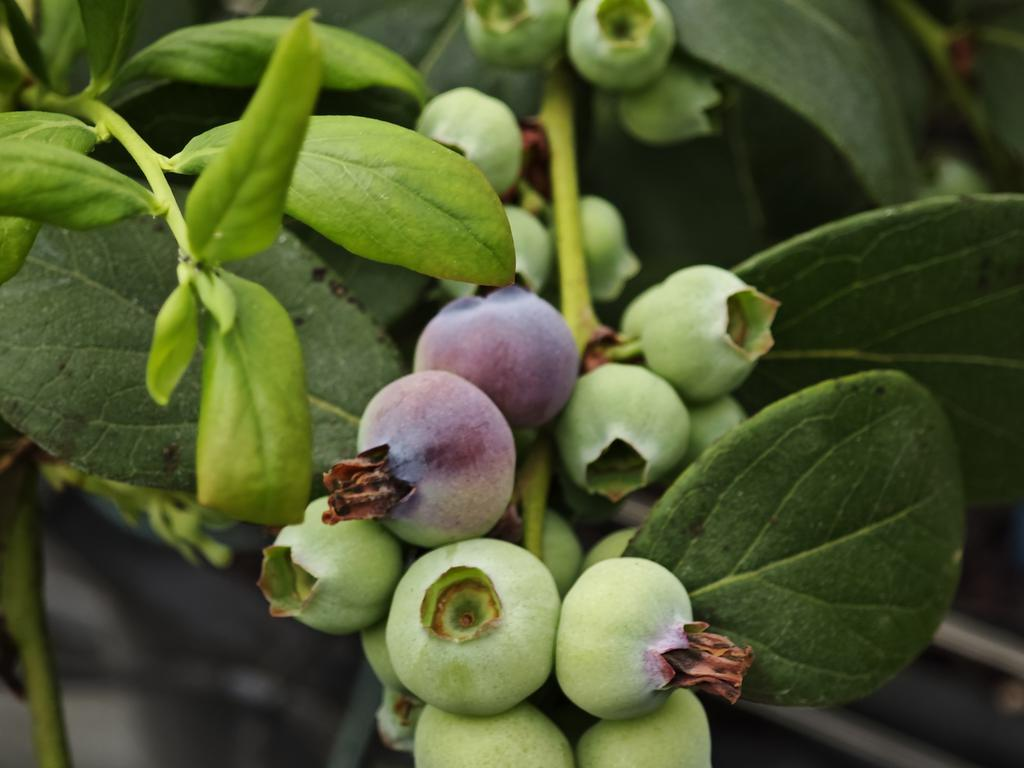Semi-RipeBlueBerry: (349, 369, 512, 540)
UnripeBlueBerry: (390, 537, 553, 712), (562, 548, 694, 720), (644, 258, 771, 386)
